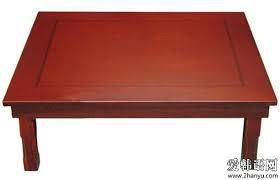desk: (4, 4, 275, 173)
